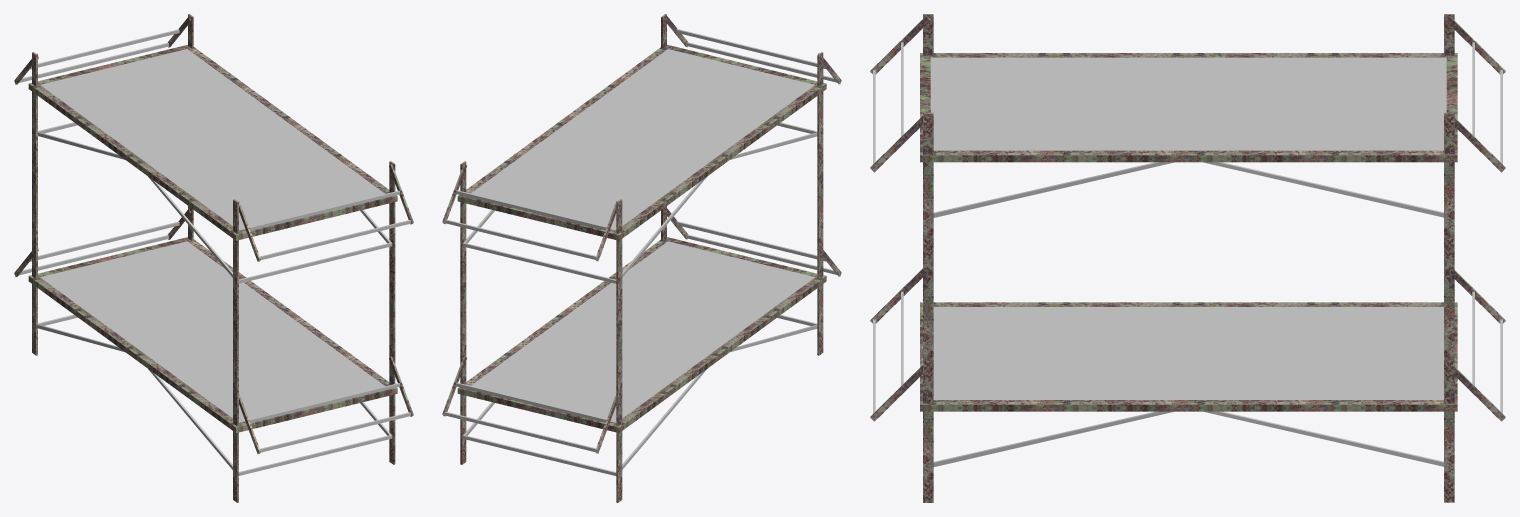
The model's file is bed2.FBX.
3 renders of one model, left to right at view 1: azimuth 30°, elevation 25°; view 2: azimuth 150°, elevation 25°; view 3: azimuth 270°, elevation 25°, orthographic. The views are drawn at different scales.
Parts seen in each view (by area): view 1: bed2; view 2: bed2; view 3: bed2.
Part boxes in pixels (<box>): bed2: <box>14,14,413,502</box>; bed2: <box>442,14,841,502</box>; bed2: <box>870,14,1505,502</box>.
Bounding box in the file's own units: 0.9 × 1.6 × 2.36.
